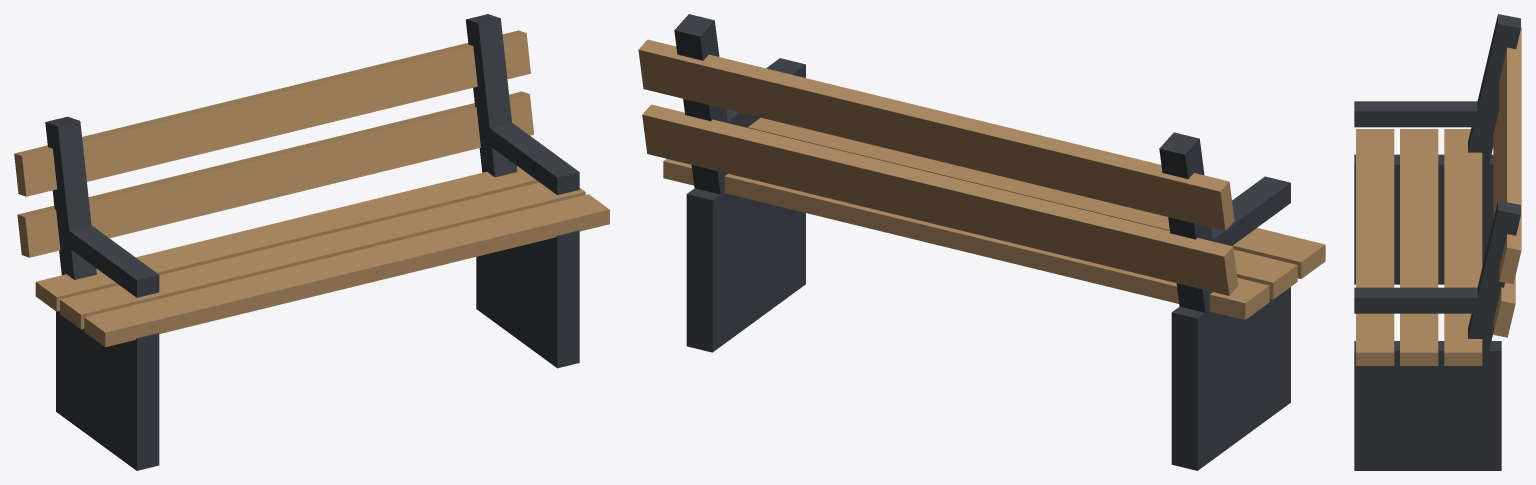
The model's file is bench.glb.
The picture shows the model from 3 angles, left to right: view 1: azimuth 30°, elevation 25°; view 2: azimuth 150°, elevation 25°; view 3: azimuth 270°, elevation 25°; orthographic projection. The views are drawn at different scales.
Parts seen in each view (by area): view 1: bench; view 2: bench; view 3: bench.
Part boxes in pixels (<box>): bench: <box>14,14,609,470</box>; bench: <box>638,14,1325,470</box>; bench: <box>1354,14,1521,470</box>.
Size of the model in its own units: 1.8 by 0.9773 by 0.568.
